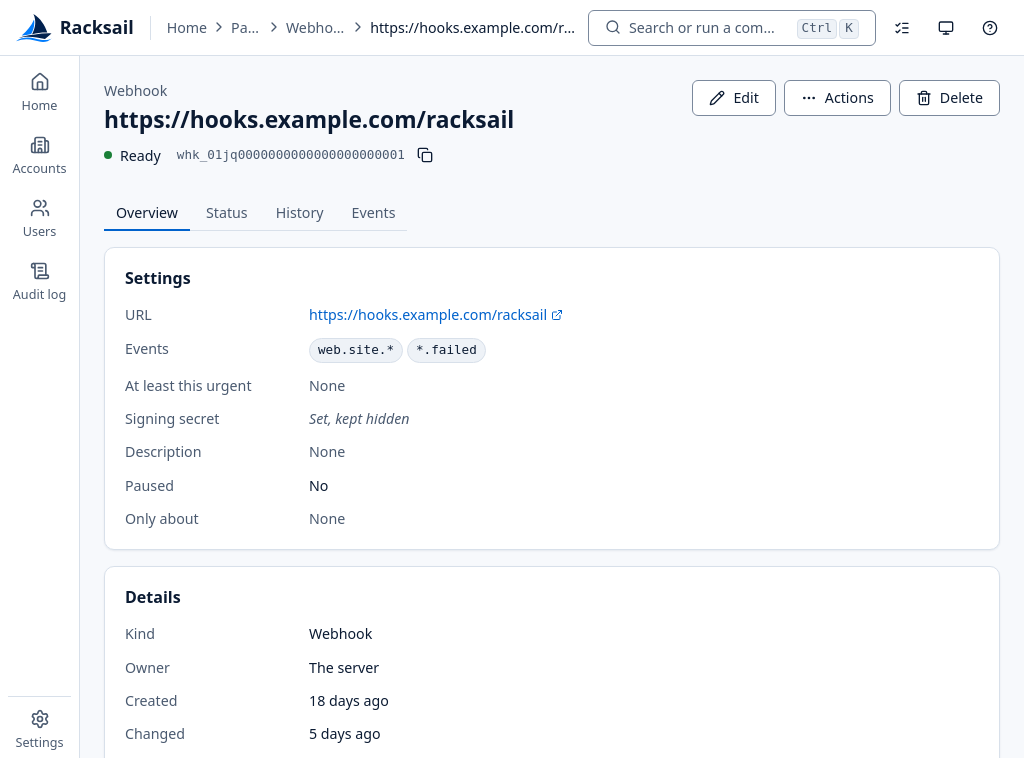
Test: a resource's page › says when the ID can't be copied
Click the button named "Copy the ID" at (425, 155), box [409, 139, 441, 171]
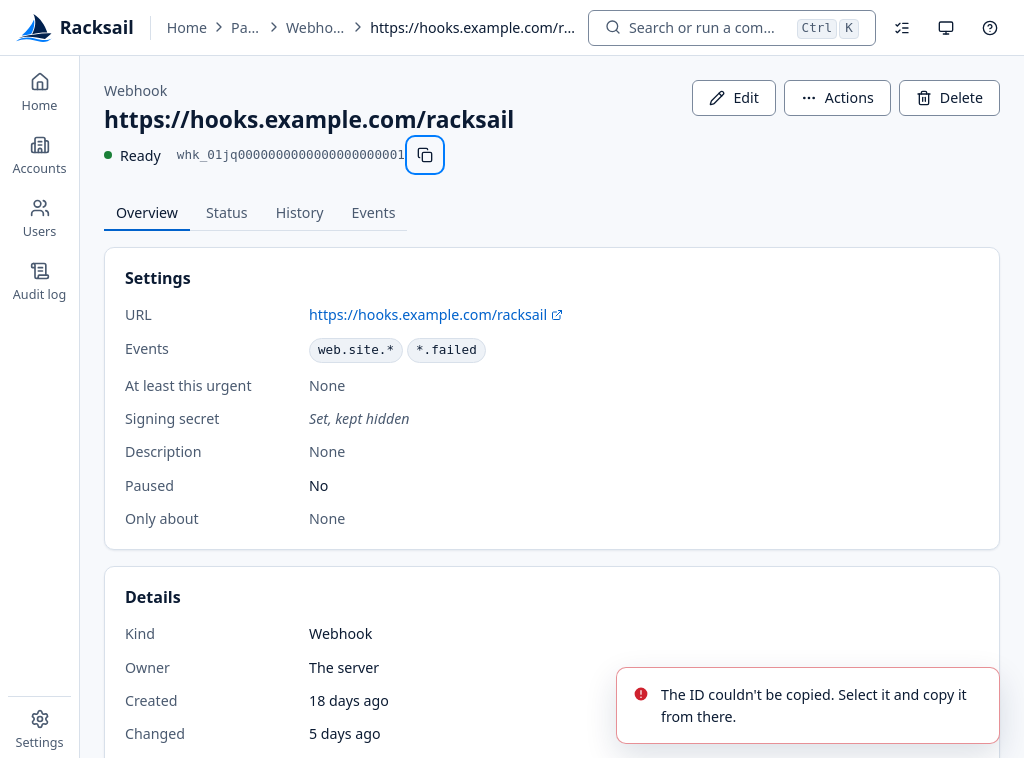
Expected: the text "The ID couldn't be copied. Select it and copy it from there." is shown, [661, 684, 983, 727]
